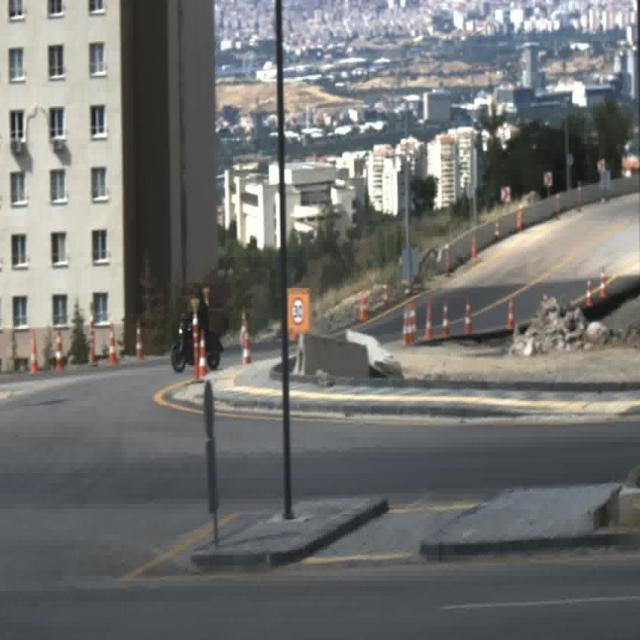Motorcycle: (171, 293, 223, 375)
